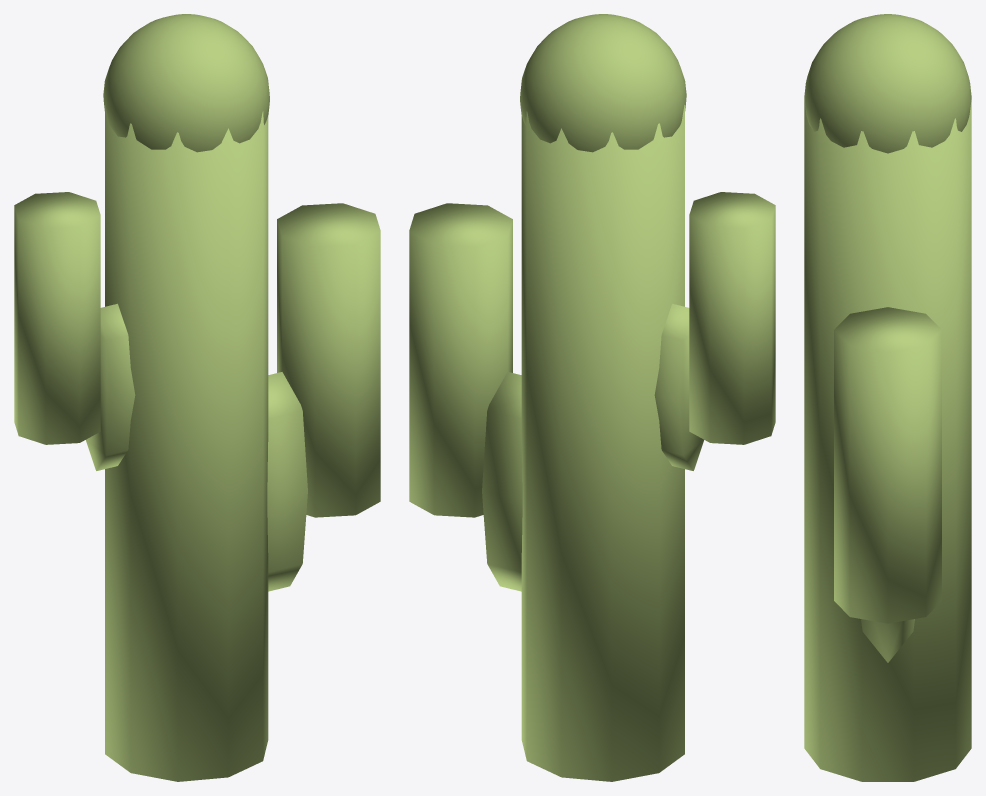
Rendered from cactus.glb.
3 views of the same model, side by side, from view 1: azimuth 30°, elevation 25°; view 2: azimuth 150°, elevation 25°; view 3: azimuth 270°, elevation 25° (orthographic).
Parts seen in each view (by area): view 1: cactus; view 2: cactus; view 3: cactus.
Boxes of the visible parts, x1=… form: cactus: x1=14, y1=14, x2=380, y2=781; cactus: x1=409, y1=14, x2=775, y2=781; cactus: x1=804, y1=14, x2=971, y2=781.
Size of the model in its own units: 1.38 by 2.68 by 0.56.
